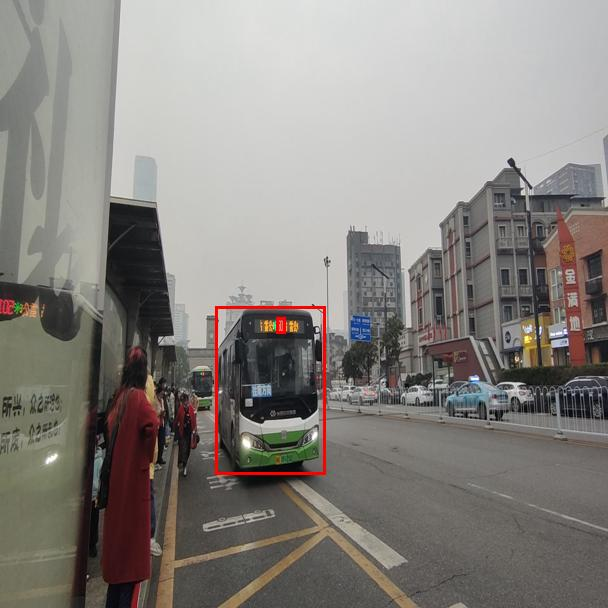bus: (215, 306, 325, 474)
screen: (276, 317, 285, 333)
